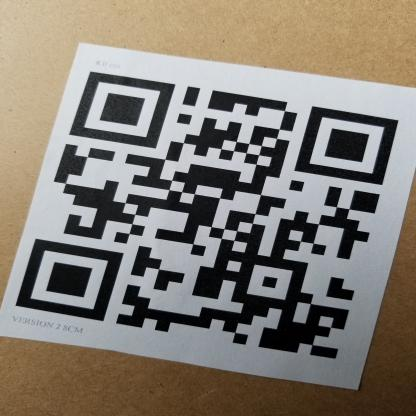qr: (13, 64, 402, 368)
